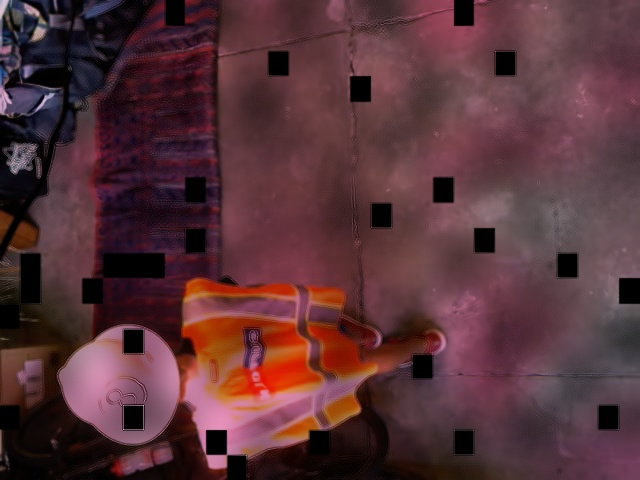eight: (96, 376, 146, 424)
